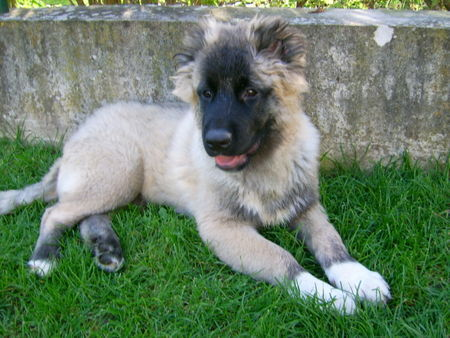cau_ovcharka: (0, 15, 392, 316)
